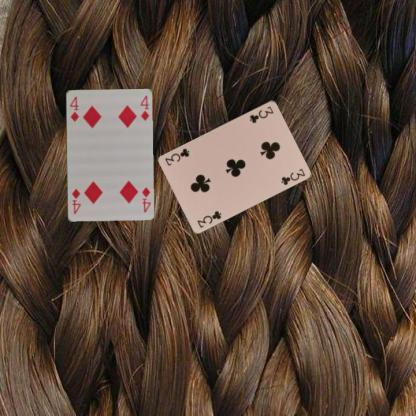3c: (194, 208, 224, 229), (247, 104, 274, 125)
4d: (140, 184, 152, 214), (68, 94, 80, 122)
